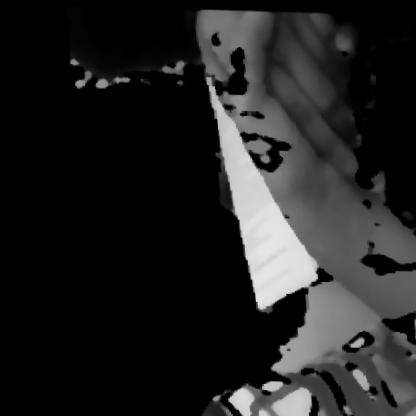handshake: (182, 5, 415, 301)
